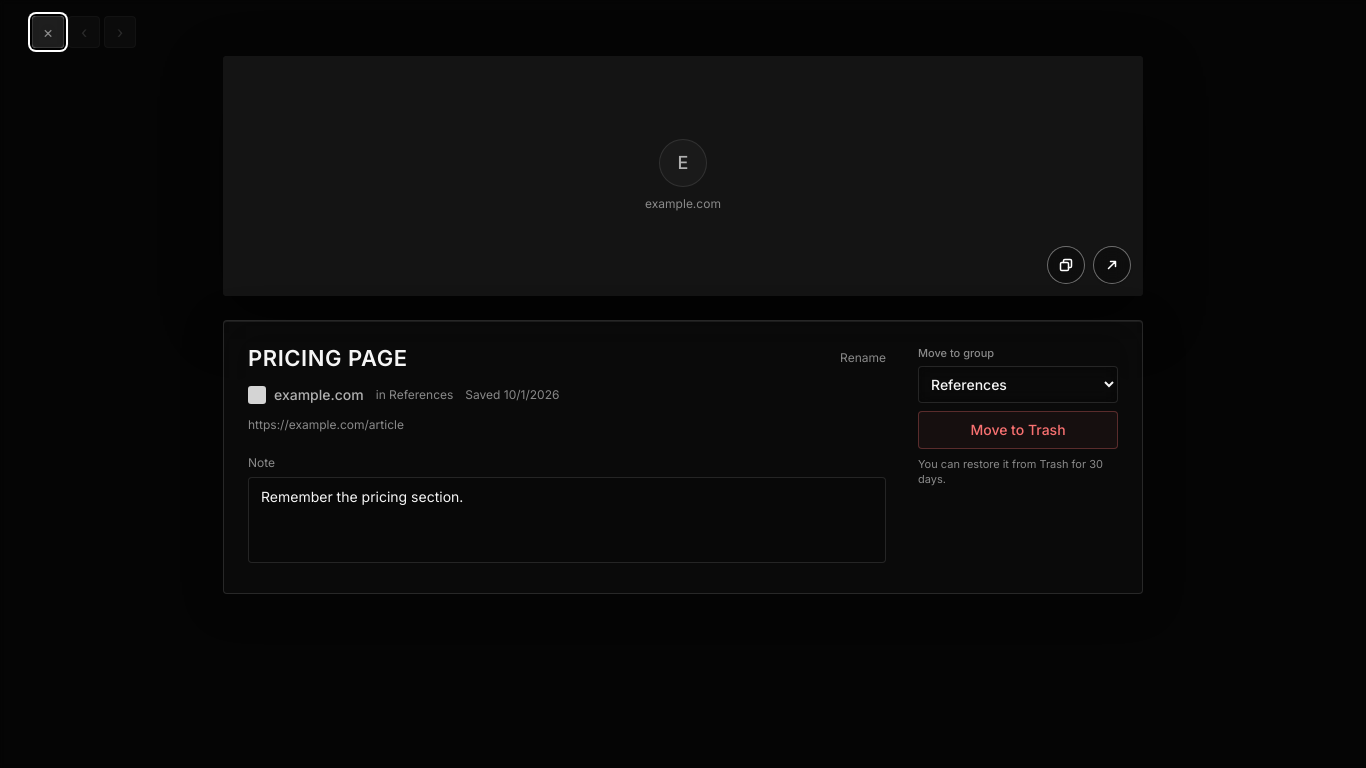
Test case: open link note › puts a failed save on the note and returns there
This screenshot has width=1366, height=768.
Replace the text in the text box labelled "Note" with "A newer reminder." at (567, 520), box [248,477,886,563]
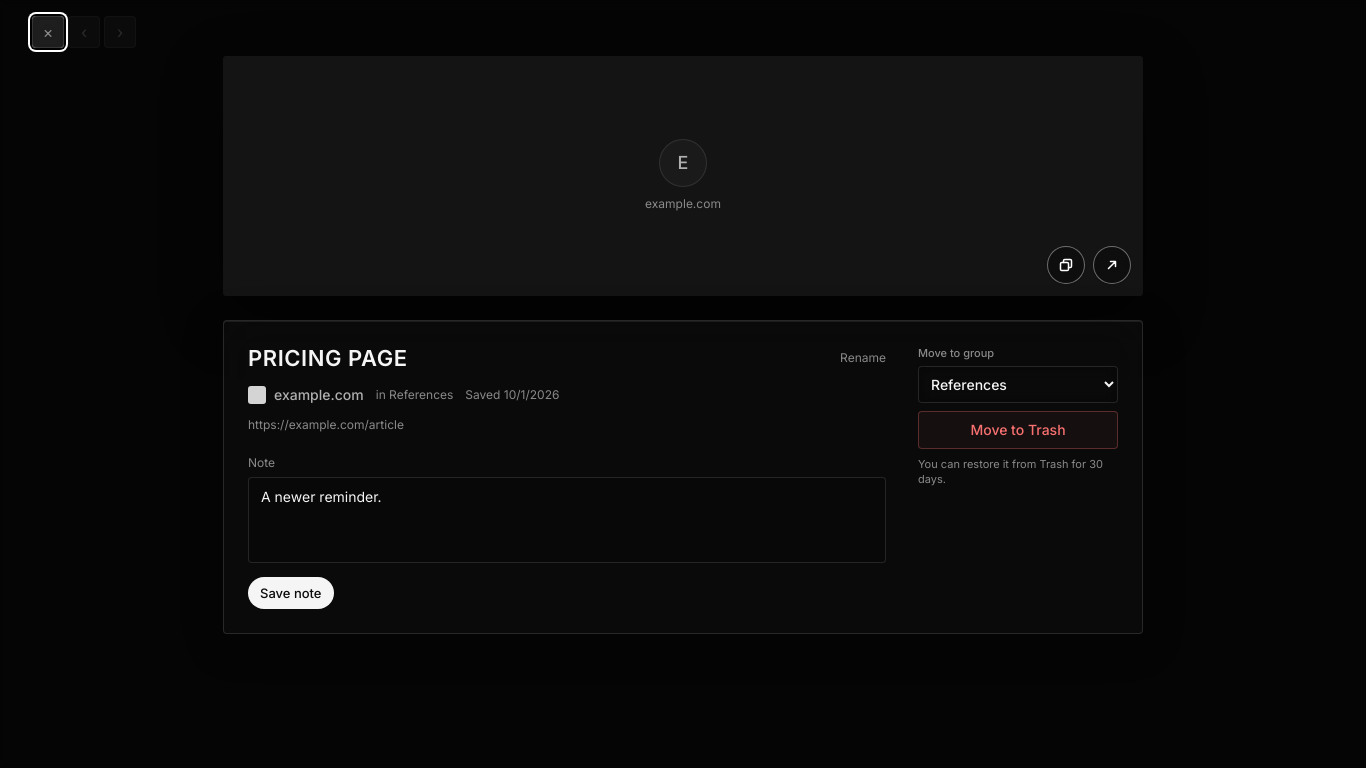
Click the button "Save note".
click(291, 593)  # box [248,577,334,609]
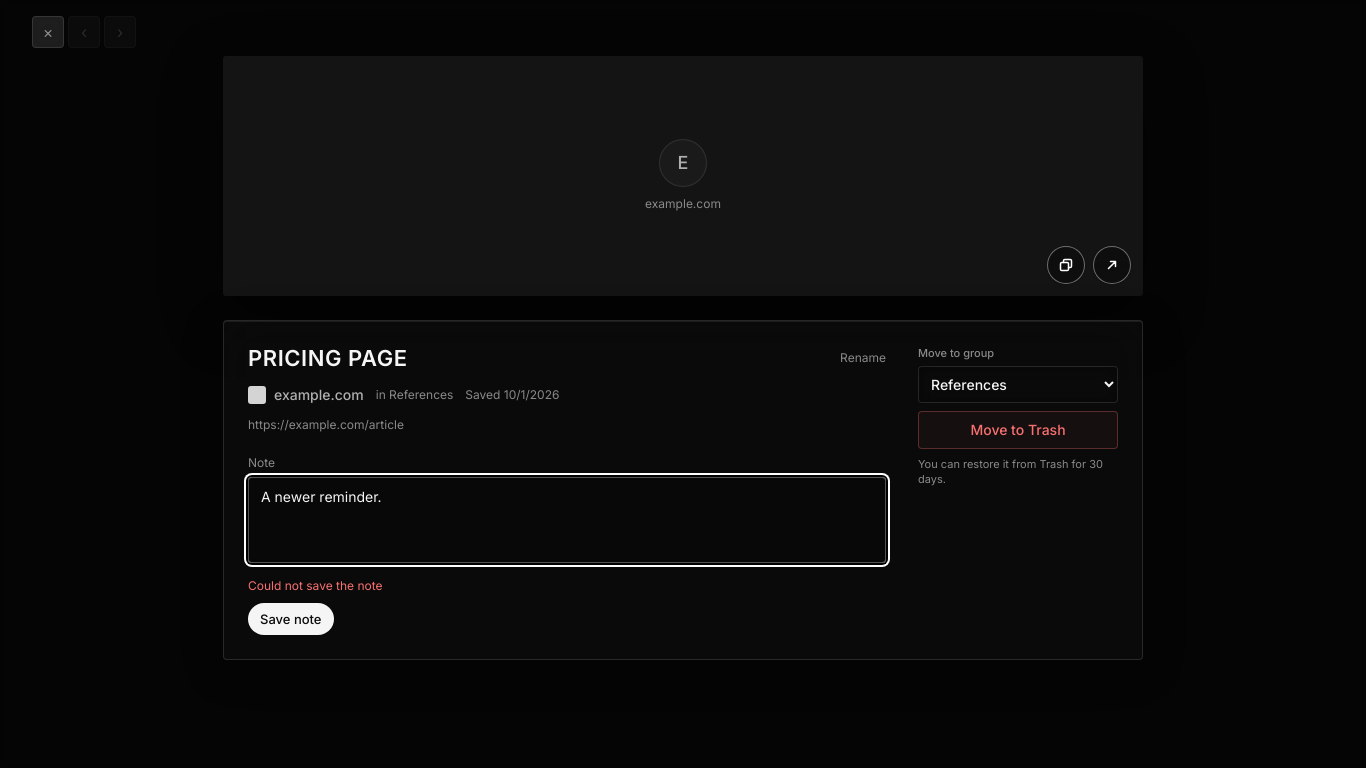
Expected: the message reads "Could not save the note", [248,578,382,593]
